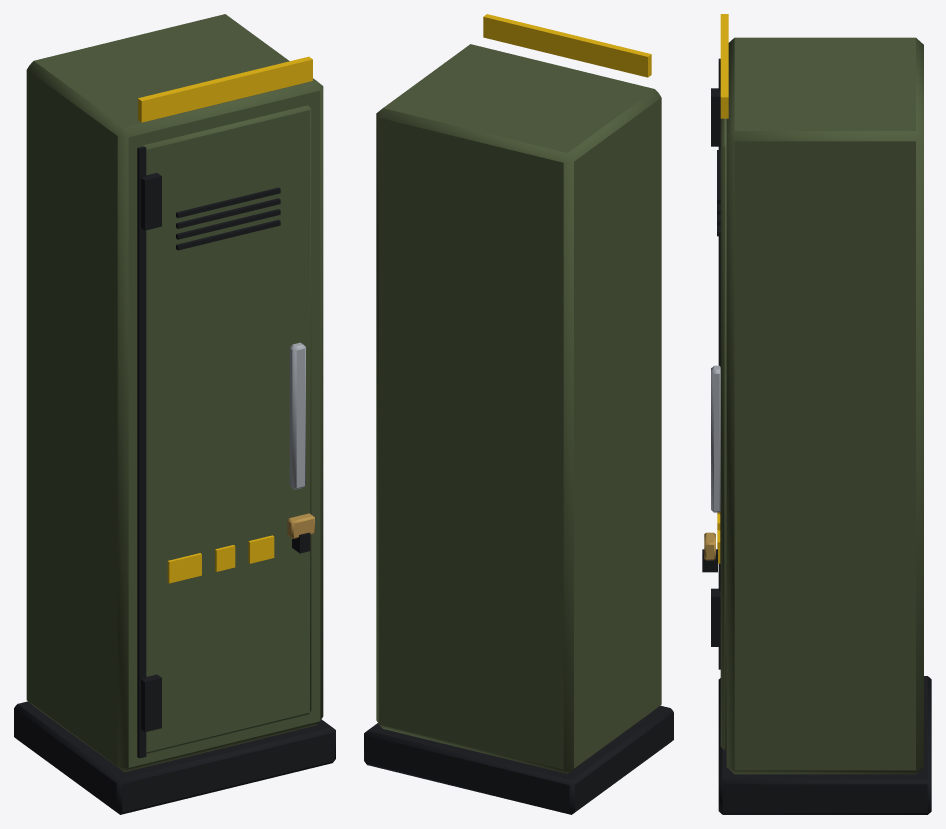
The model's file is crate_upright_locker.glb.
3 renders of one model, left to right at view 1: azimuth 30°, elevation 25°; view 2: azimuth 150°, elevation 25°; view 3: azimuth 270°, elevation 25°, orthographic. The views are drawn at different scales.
Parts seen in each view (by area): view 1: crate_upright_locker; view 2: crate_upright_locker; view 3: crate_upright_locker.
Boxes of the visible parts, <box> form: crate_upright_locker: <box>14,14,335,814</box>; crate_upright_locker: <box>364,14,673,814</box>; crate_upright_locker: <box>702,14,931,814</box>.
Size of the model in its own units: 0.64 by 1.98 by 0.582.
